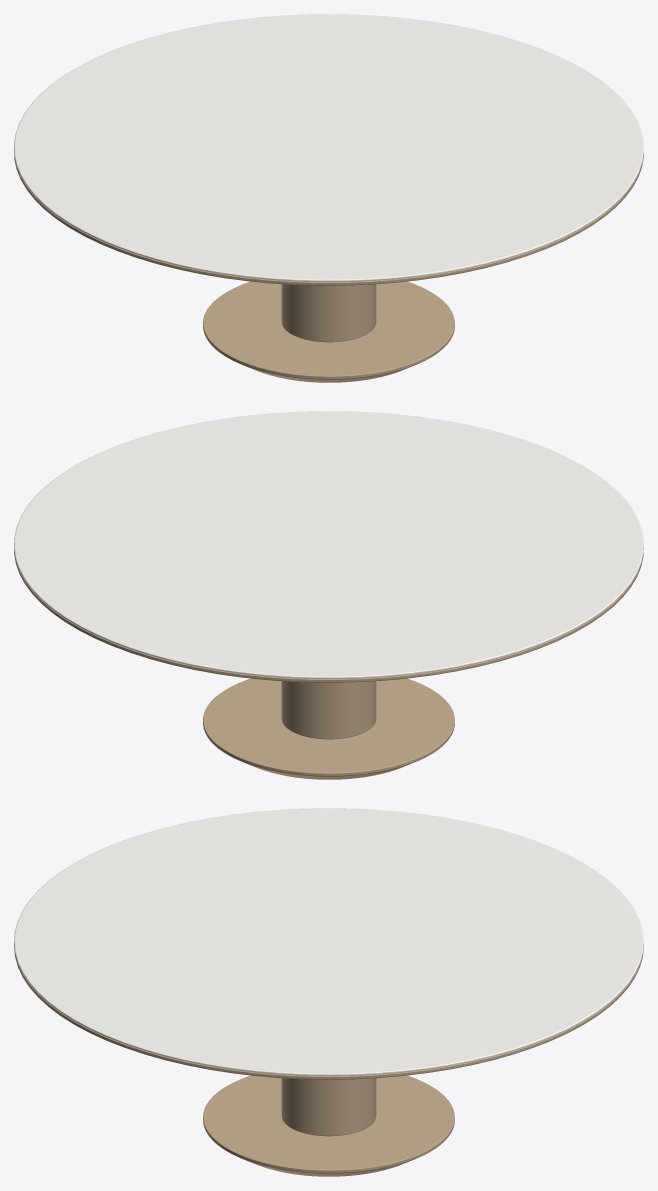
The model's file is orbit_d100h33_hoje.glb.
3 views of the same model, one above another, from view 1: azimuth 30°, elevation 25°; view 2: azimuth 150°, elevation 25°; view 3: azimuth 270°, elevation 25° (orthographic).
Parts seen in each view (by area): view 1: Top Orbit Coffee Table 029, Base Orbit Coffee Table 029, Base Element Orbit Coffee Table 032, Undertop Orbit Coffee Table 029; view 2: Top Orbit Coffee Table 029, Base Orbit Coffee Table 029, Base Element Orbit Coffee Table 032, Undertop Orbit Coffee Table 029; view 3: Top Orbit Coffee Table 029, Base Orbit Coffee Table 029, Base Element Orbit Coffee Table 032, Undertop Orbit Coffee Table 029.
Part boxes in pixels (x1,y1,x2,y2): Top Orbit Coffee Table 029: (14,14,643,281); Base Orbit Coffee Table 029: (203,281,454,382); Base Element Orbit Coffee Table 032: (281,284,376,342); Undertop Orbit Coffee Table 029: (14,150,643,285); Top Orbit Coffee Table 029: (14,411,643,678); Base Orbit Coffee Table 029: (203,678,454,779); Base Element Orbit Coffee Table 032: (281,681,376,739); Undertop Orbit Coffee Table 029: (14,547,643,682); Top Orbit Coffee Table 029: (14,808,643,1075); Base Orbit Coffee Table 029: (203,1075,454,1176); Base Element Orbit Coffee Table 032: (281,1078,376,1136); Undertop Orbit Coffee Table 029: (14,944,643,1079).
Size of the model in its own units: 1 by 0.334 by 1.
